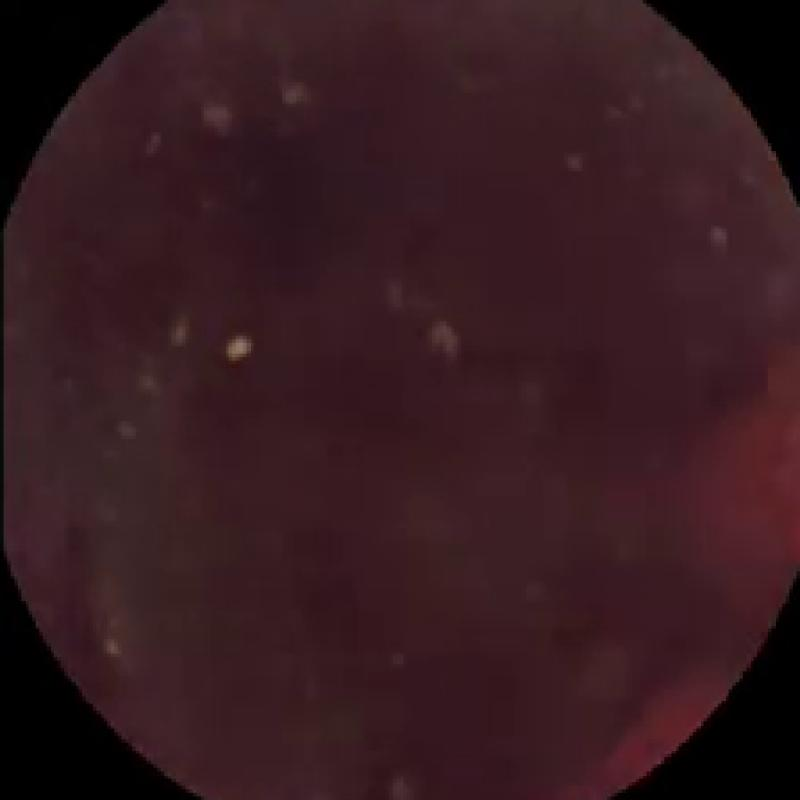bleeding: (575, 375, 800, 796)
